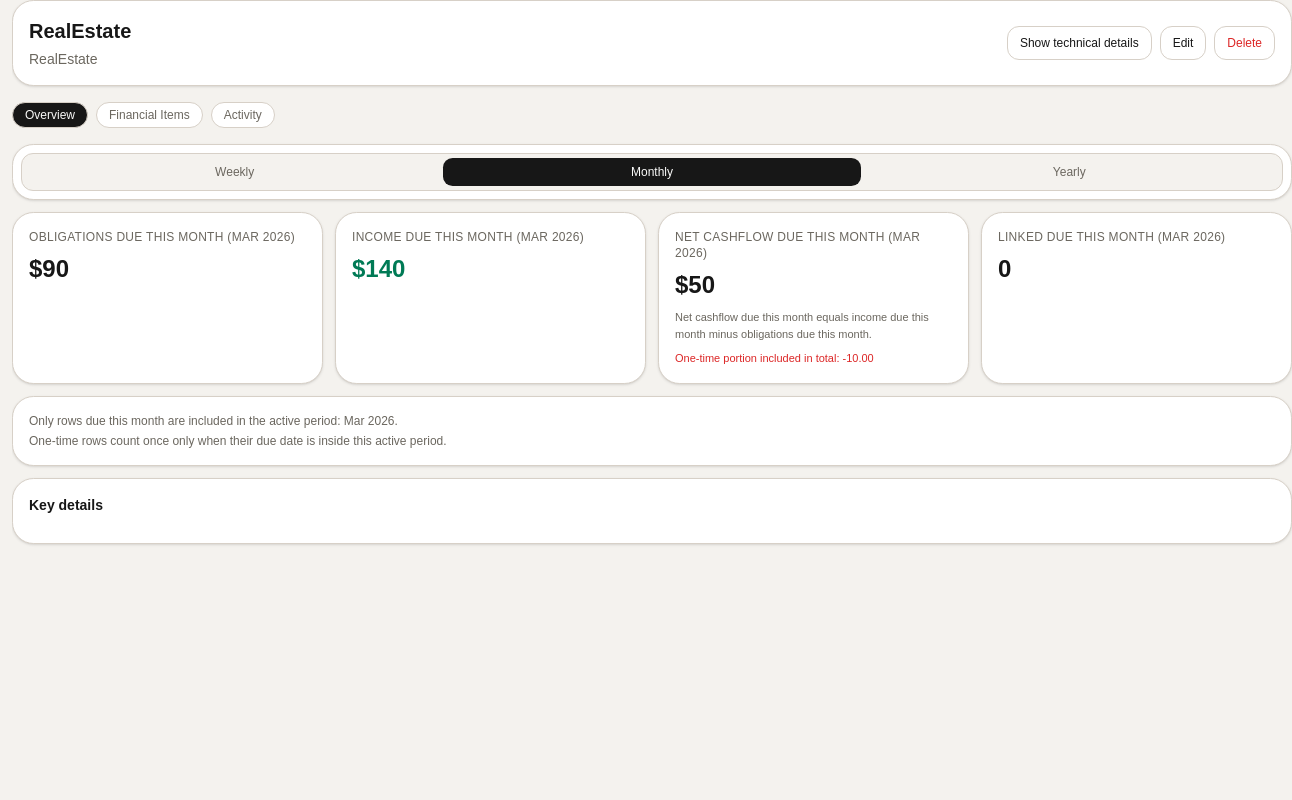
Test: item detail events panel › keeps previous synchronized values visible and shows concise feedback when cadence transition fails
The width and height of the screenshot is (1292, 800).
Expected: the text "Obligations due this month (Mar 2026)" is shown, [29, 229, 306, 245]
Expected: the text "Obligations due this month (Mar 2026)" reads "Obligations due this month (Mar 2026) $90", [29, 255, 69, 282]
Click the button with aria-label "Selected cadence: Yearly": (1069,172) [861, 158, 1278, 186]
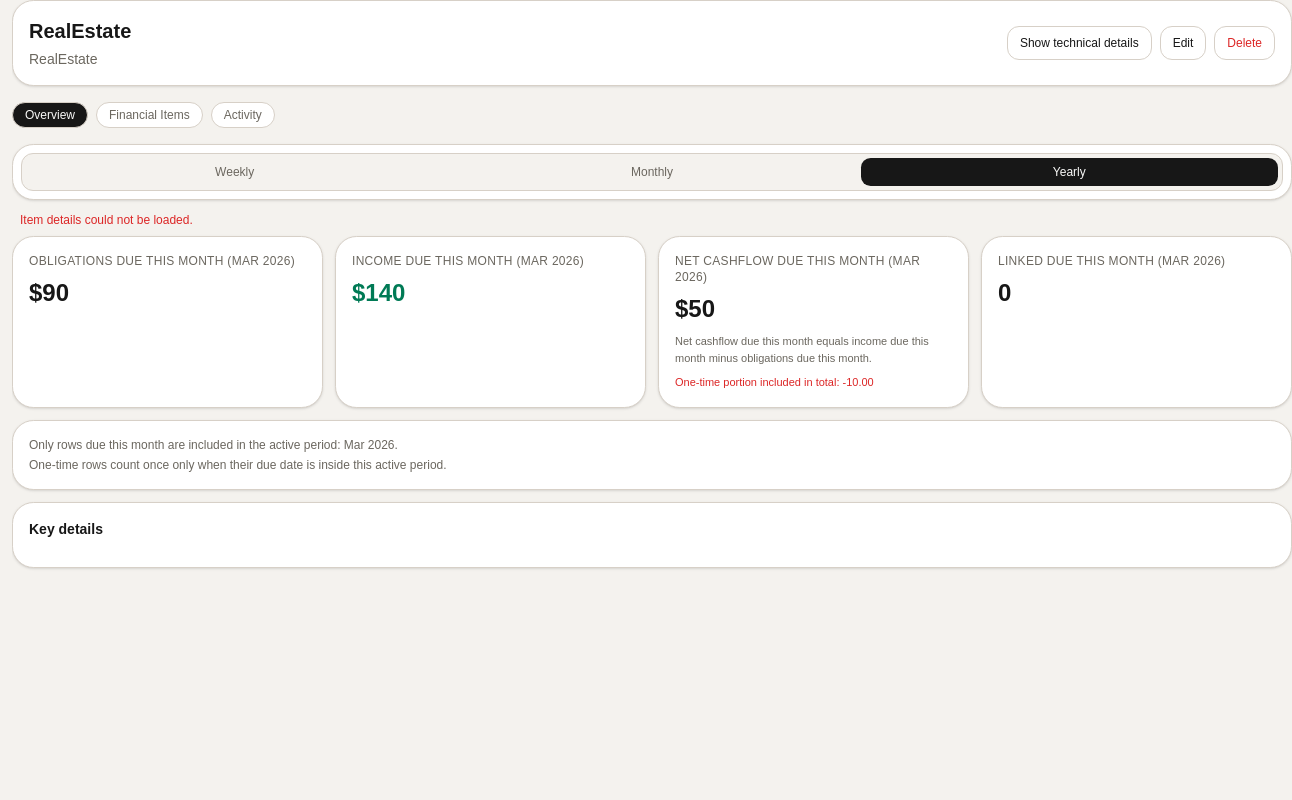
Expected: the text "Obligations due this month (Mar 2026)" is shown, [29, 253, 306, 269]
Expected: the text "Item details could not be loaded." is shown, [20, 213, 193, 227]
